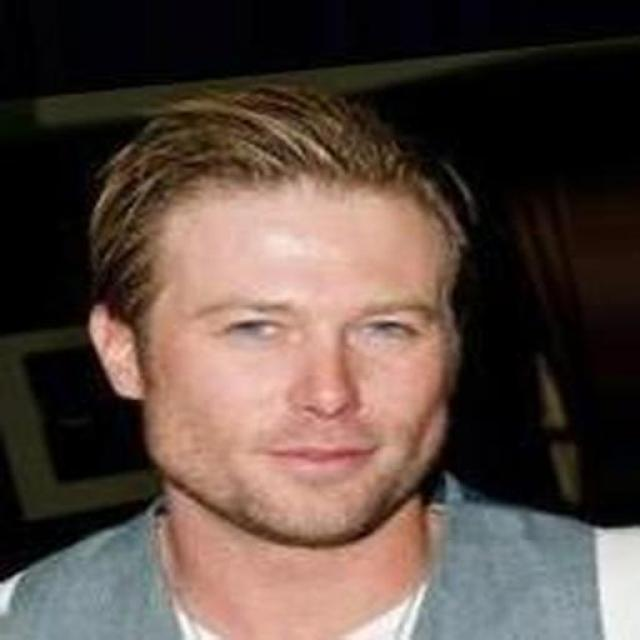bareface: (94, 127, 470, 572)
